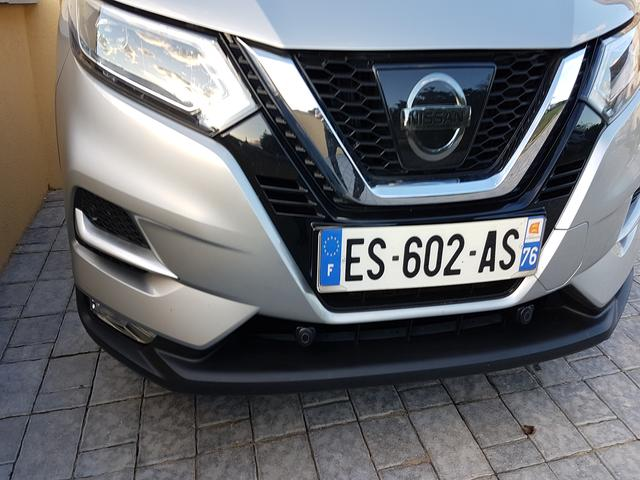Quashquai: (305, 210, 549, 298)
